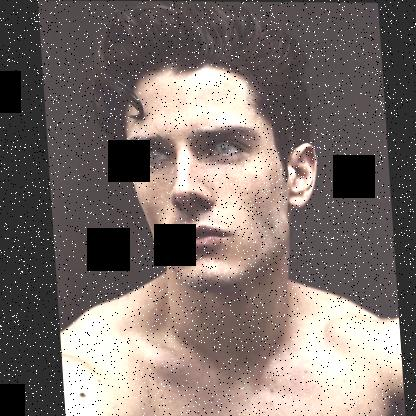Male: (119, 62, 319, 284)
